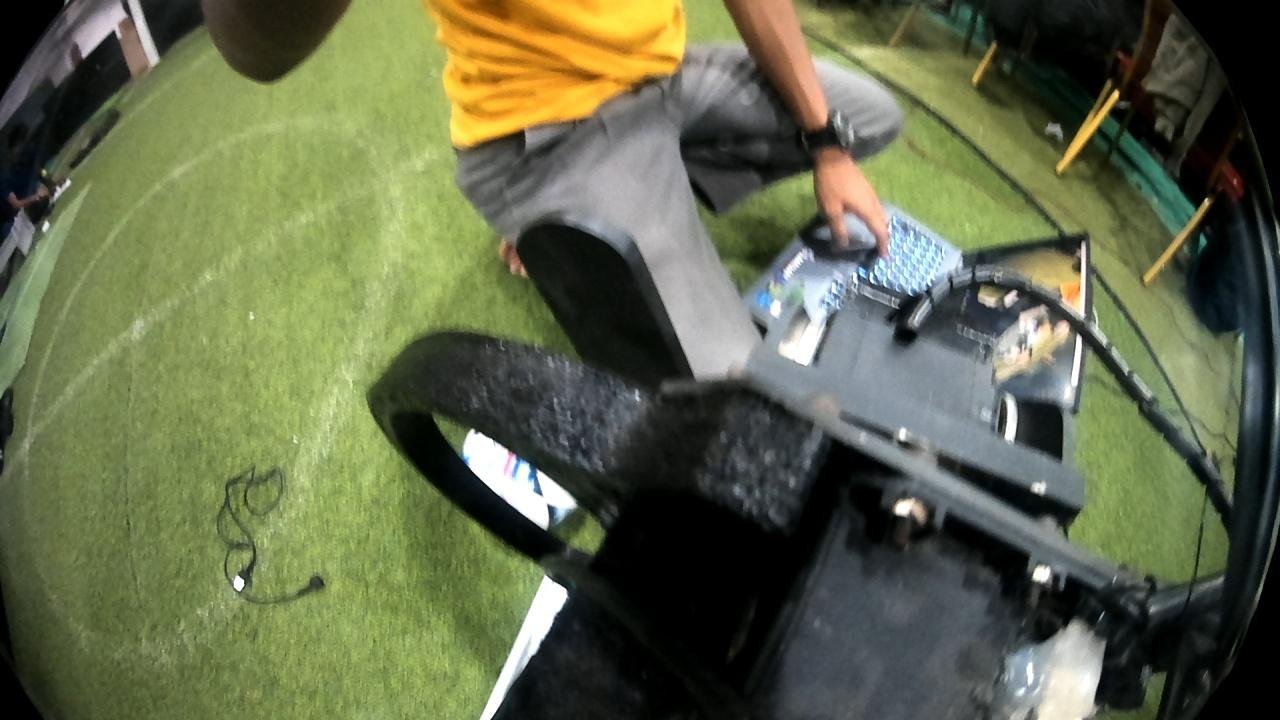ball: (456, 411, 587, 537)
